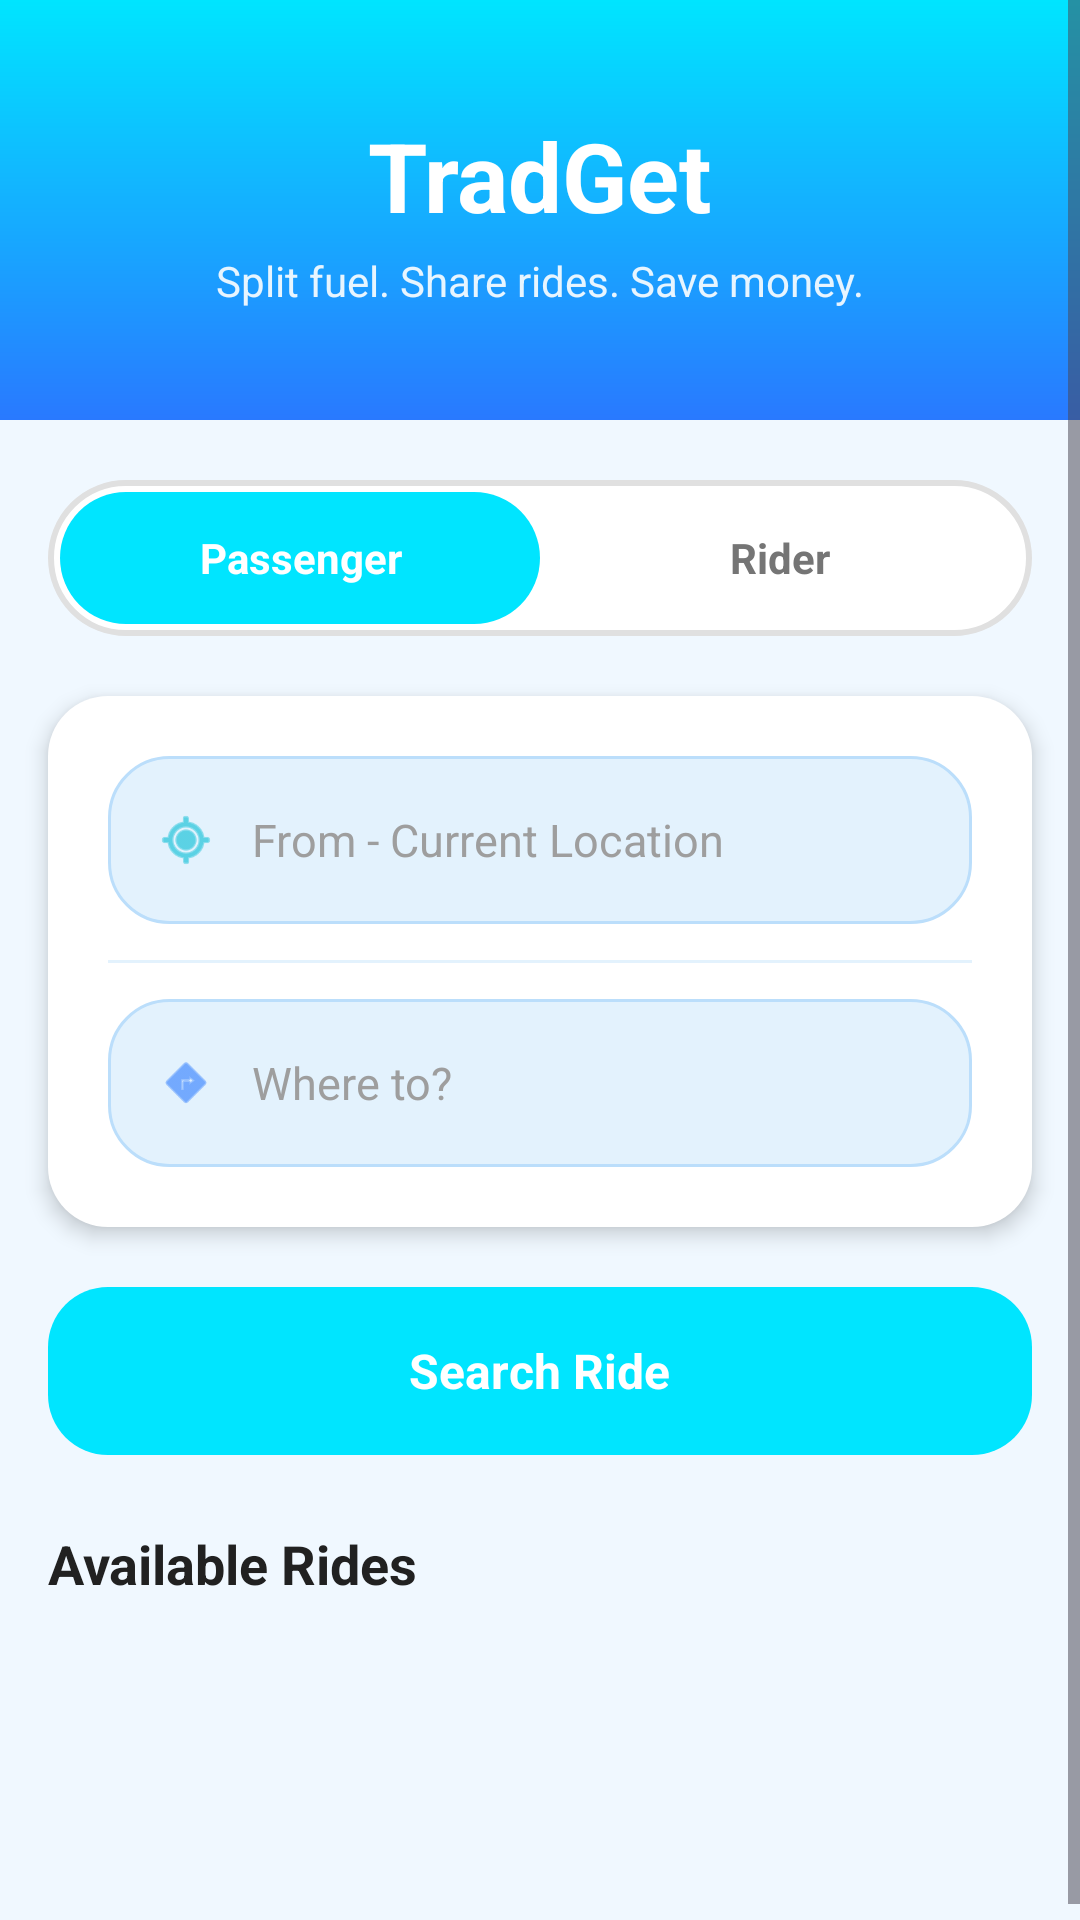

Locate icon controls on the screen. Image size 1080w x 1920h, boxes as (x1, y1, x2, y2).
directions: (165, 1062, 207, 1103)
mylocation: (162, 816, 210, 864)
